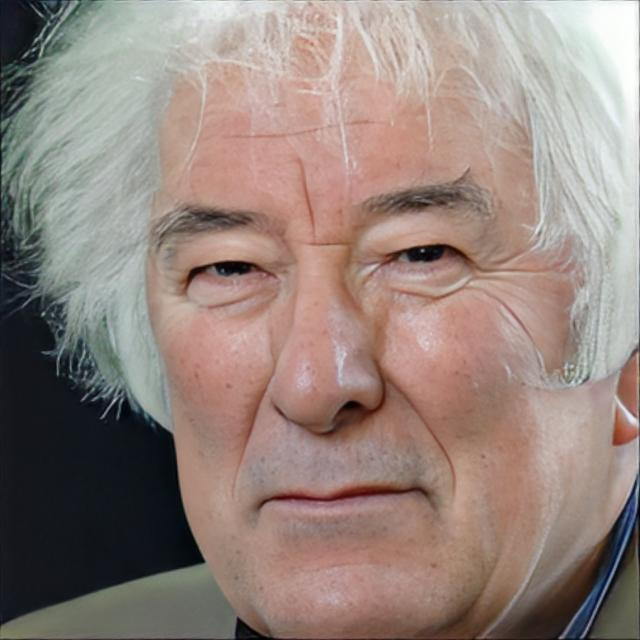disgust: (150, 0, 614, 640)
